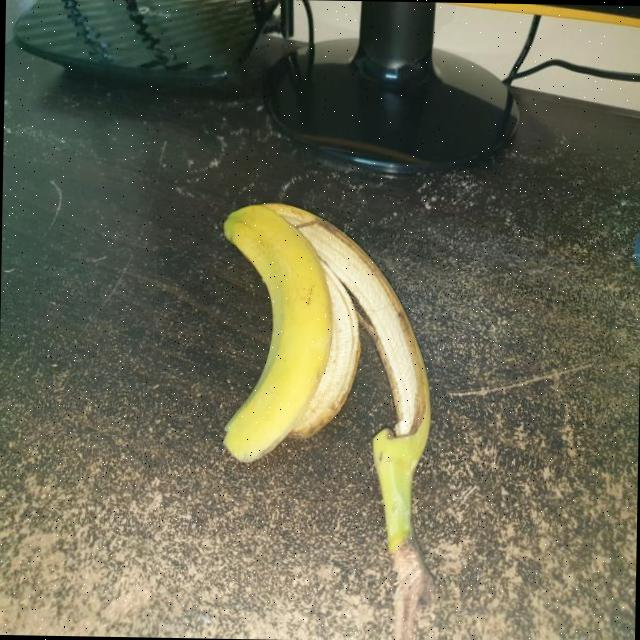banana-peel: (214, 198, 442, 640), (216, 201, 334, 464)
